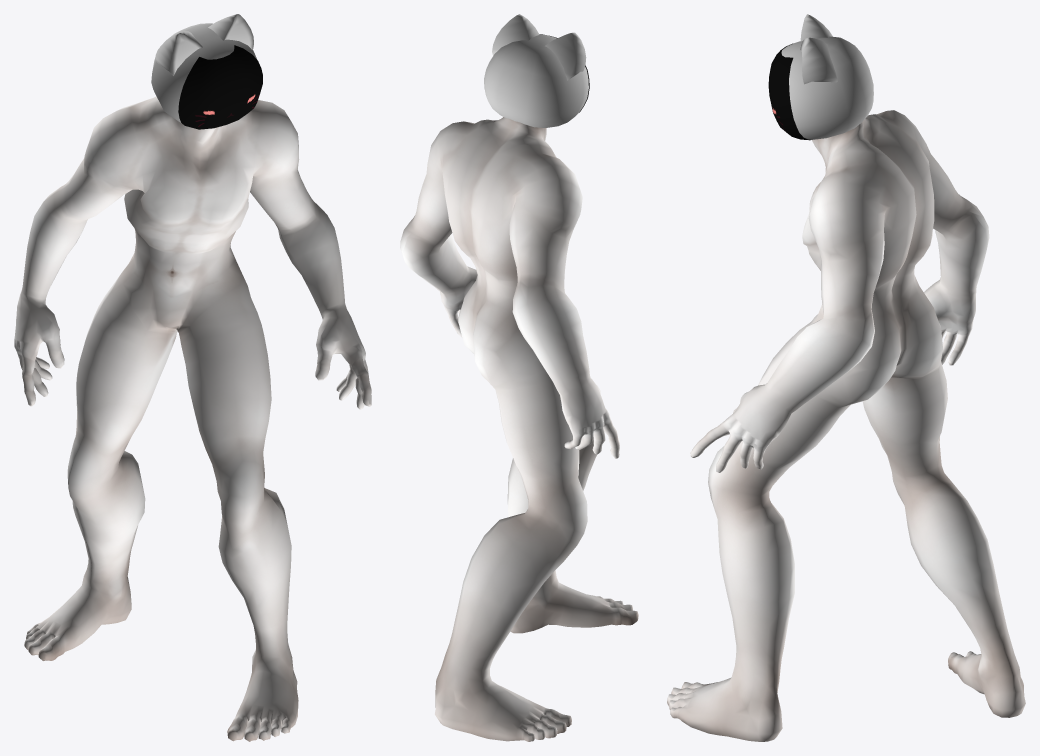
The picture shows the model from 3 angles, left to right: view 1: azimuth 30°, elevation 25°; view 2: azimuth 150°, elevation 25°; view 3: azimuth 270°, elevation 25°; orthographic projection. The views are drawn at different scales.
Visible parts, largest first — view 1: Muscle_Body, ______?001, Cat_Head; view 2: Muscle_Body, Cat_Head; view 3: Muscle_Body, Cat_Head, ______?001.
Part boxes in pixels (x1=…): Muscle_Body: x1=14, y1=96, x2=371, y2=741; ______?001: x1=178, y1=45, x2=262, y2=129; Cat_Head: x1=151, y1=14, x2=257, y2=123; Muscle_Body: x1=400, y1=117, x2=638, y2=741; Cat_Head: x1=484, y1=14, x2=588, y2=127; Muscle_Body: x1=667, y1=110, x2=1025, y2=741; Cat_Head: x1=781, y1=14, x2=873, y2=139; ______?001: x1=768, y1=43, x2=810, y2=140.
Size of the model in its own units: 11.46 by 27.75 by 13.06.
